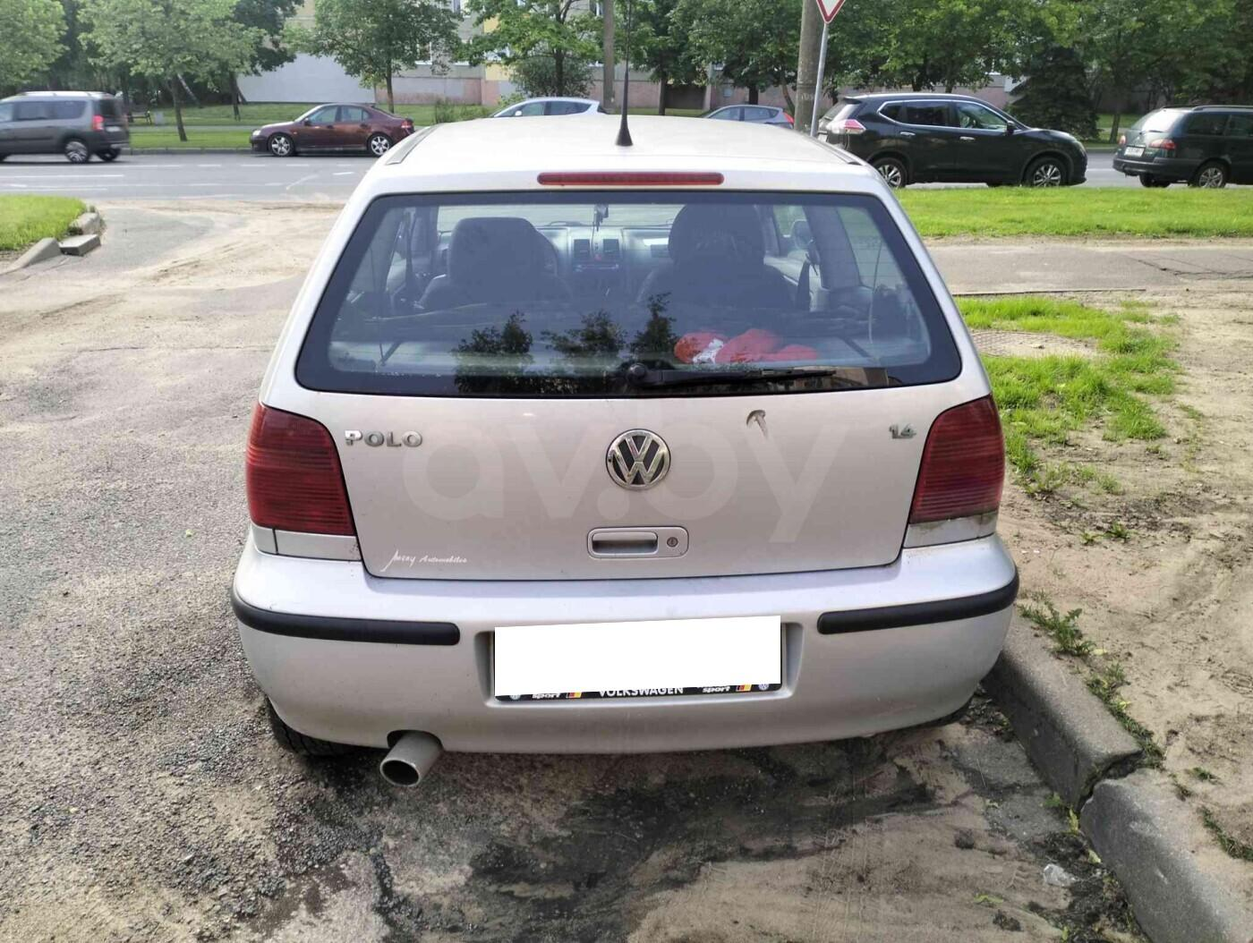Polo_2000-2002: (220, 97, 993, 813)
